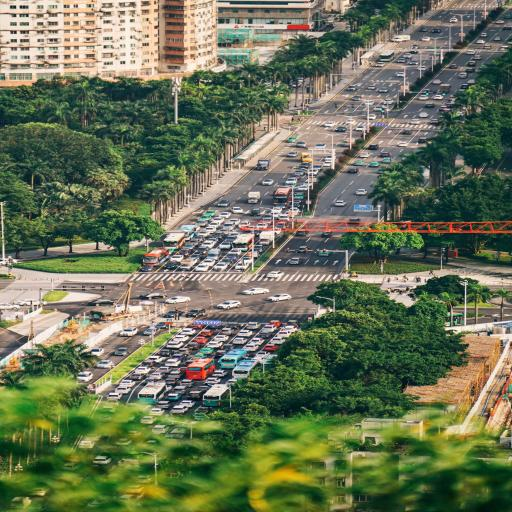car: (166, 427, 187, 439), (171, 404, 189, 415), (217, 301, 241, 309), (152, 425, 169, 436), (243, 288, 269, 295), (165, 296, 190, 303), (186, 308, 205, 317), (139, 293, 167, 299), (88, 299, 115, 305), (268, 294, 291, 301), (143, 326, 160, 335), (78, 372, 93, 382), (206, 339, 222, 348), (120, 328, 138, 336), (96, 360, 114, 368), (93, 456, 111, 464), (167, 393, 183, 402), (168, 340, 183, 349), (232, 337, 247, 346), (0, 303, 19, 310), (150, 408, 166, 416), (78, 441, 94, 449), (164, 262, 179, 270), (213, 262, 228, 270), (213, 334, 228, 342), (244, 343, 259, 351), (205, 377, 220, 385), (267, 271, 284, 278), (238, 329, 252, 337), (167, 359, 181, 367), (116, 386, 130, 394), (180, 328, 196, 335), (173, 335, 189, 342), (17, 300, 39, 305), (181, 400, 196, 407), (120, 380, 135, 387), (116, 438, 131, 445), (91, 348, 104, 356), (171, 254, 184, 262), (141, 416, 154, 424), (230, 207, 244, 214), (195, 264, 209, 271), (263, 344, 277, 351), (219, 211, 231, 219), (287, 258, 303, 264), (203, 210, 216, 217), (218, 200, 230, 207), (296, 247, 309, 253), (286, 178, 297, 185), (322, 231, 333, 237), (262, 179, 273, 185), (356, 189, 367, 195), (335, 126, 346, 132), (335, 200, 346, 206), (360, 152, 370, 158), (380, 151, 390, 157), (345, 119, 355, 125), (397, 58, 407, 64), (286, 137, 298, 142), (296, 142, 307, 147), (287, 152, 298, 157), (473, 54, 482, 60), (356, 125, 365, 131), (354, 160, 364, 165), (325, 122, 335, 127), (398, 142, 408, 147), (409, 60, 419, 65), (433, 94, 443, 99), (348, 168, 358, 173), (352, 95, 362, 100), (364, 100, 374, 105), (418, 95, 428, 100), (430, 118, 438, 124), (348, 85, 356, 91), (419, 138, 428, 143), (449, 64, 458, 69), (432, 79, 441, 84), (384, 99, 393, 104), (375, 62, 384, 67), (370, 162, 379, 167), (367, 85, 376, 90), (314, 144, 325, 148), (432, 28, 440, 33), (383, 158, 391, 163), (411, 44, 419, 49), (466, 68, 474, 73), (379, 88, 388, 92), (495, 20, 504, 24), (419, 28, 428, 32), (421, 37, 430, 41), (419, 113, 428, 117), (450, 17, 457, 22), (404, 53, 411, 58), (477, 39, 485, 43), (418, 66, 426, 70), (467, 50, 475, 54), (481, 32, 487, 37), (468, 79, 474, 84)
